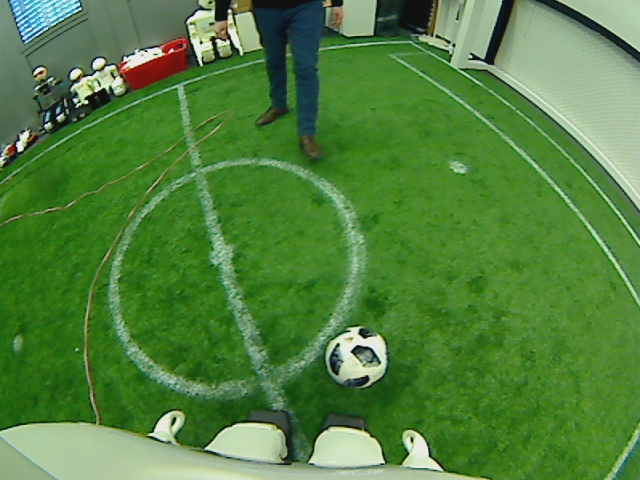ball: (323, 323, 390, 390)
